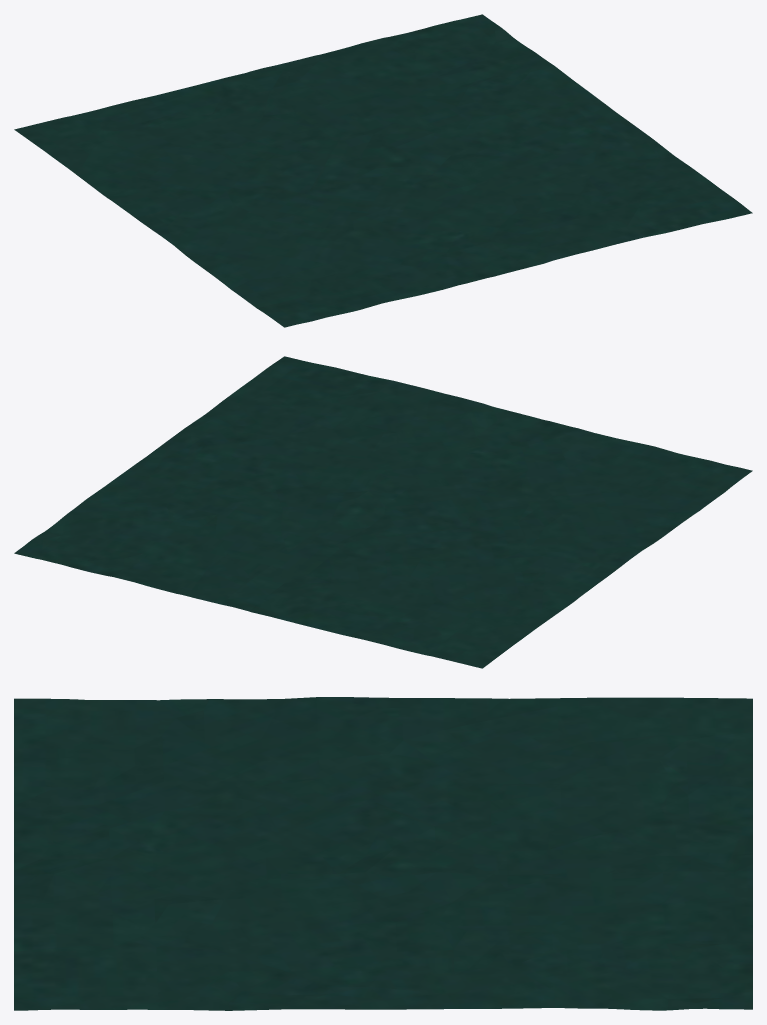
3 views of the same model, one above another, from view 1: azimuth 30°, elevation 25°; view 2: azimuth 150°, elevation 25°; view 3: azimuth 270°, elevation 25° (orthographic). The views are drawn at different scales.
Bounding box in the file's own units: 52.22 × 0.5607 × 52.22.
3 materials, 3 textured.
